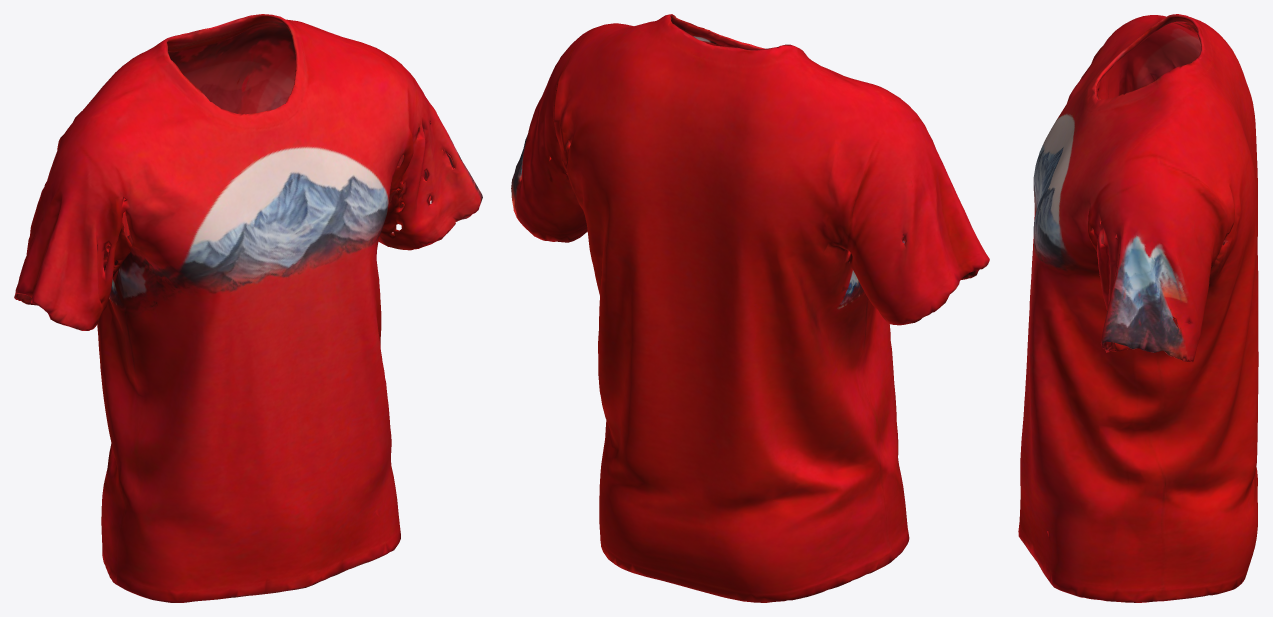
File: job_1743883327_refined.glb
3 renders of one model, left to right at view 1: azimuth 30°, elevation 25°; view 2: azimuth 150°, elevation 25°; view 3: azimuth 270°, elevation 25°, orthographic. The views are drawn at different scales.
Size of the model in its own units: 1.82 by 2.01 by 0.8535.
Materials: 1 (1 with a texture image).
